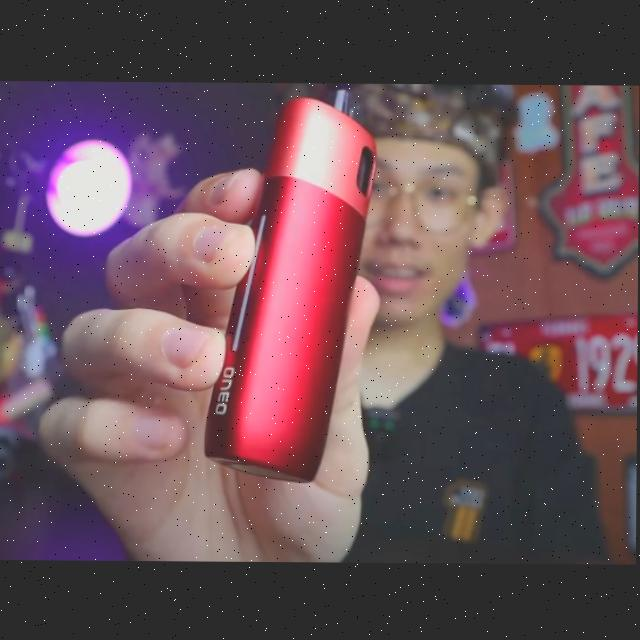vape: (204, 85, 379, 484)
